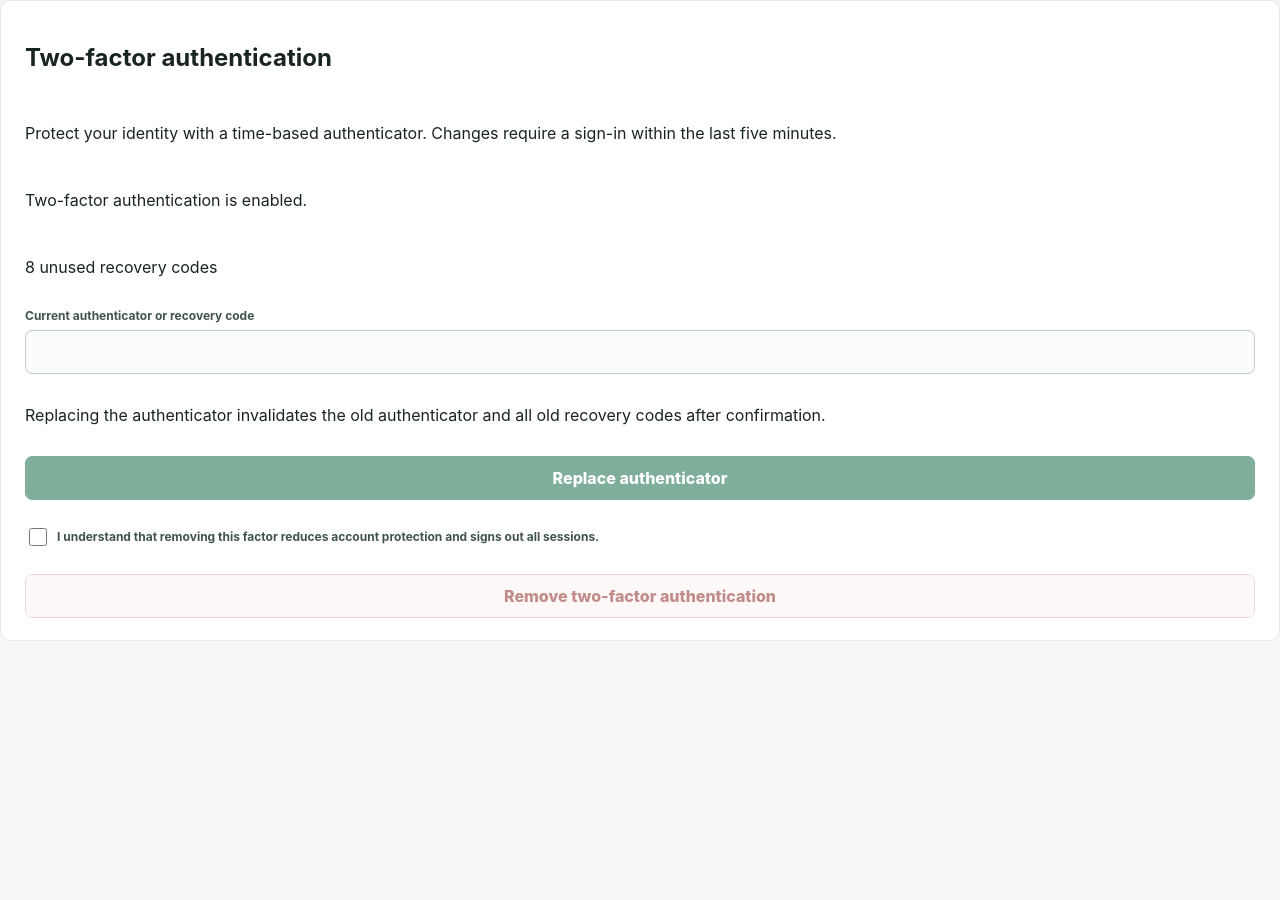
Test: identity MFA settings › requires current proof for replacement and clears it after use
The image size is (1280, 900).
Step 1. Submit the form, box [25,308,1255,618]
Step 2. Type "current-recovery-code" into the password field labelled "Current authenticator or recovery code" → (640, 352), box [25,330,1255,374]
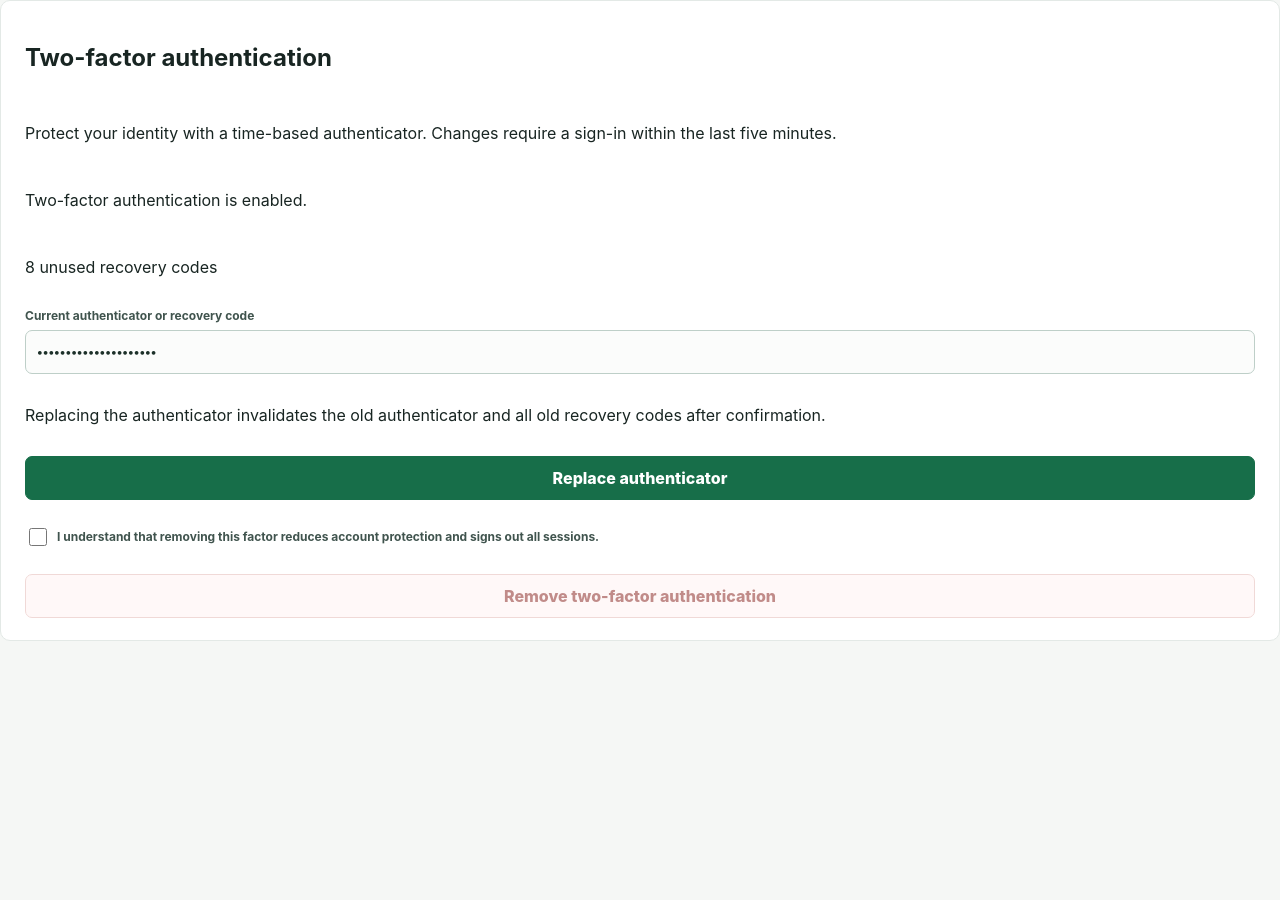
Step 3. Submit the form, box [25,308,1255,618]
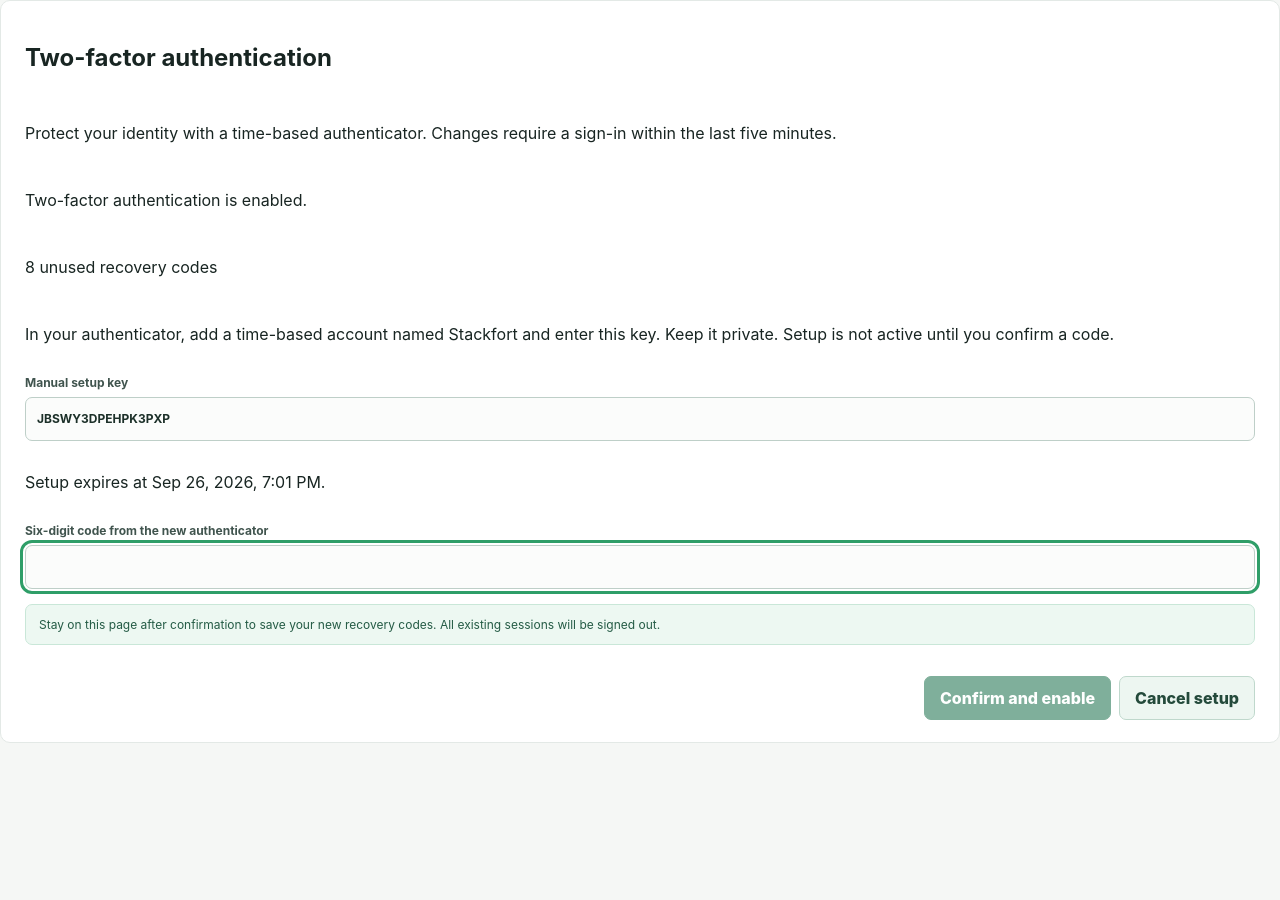
Step 4. Click the button with class "secondary-action" → click(1187, 698), box [1119,676,1255,720]
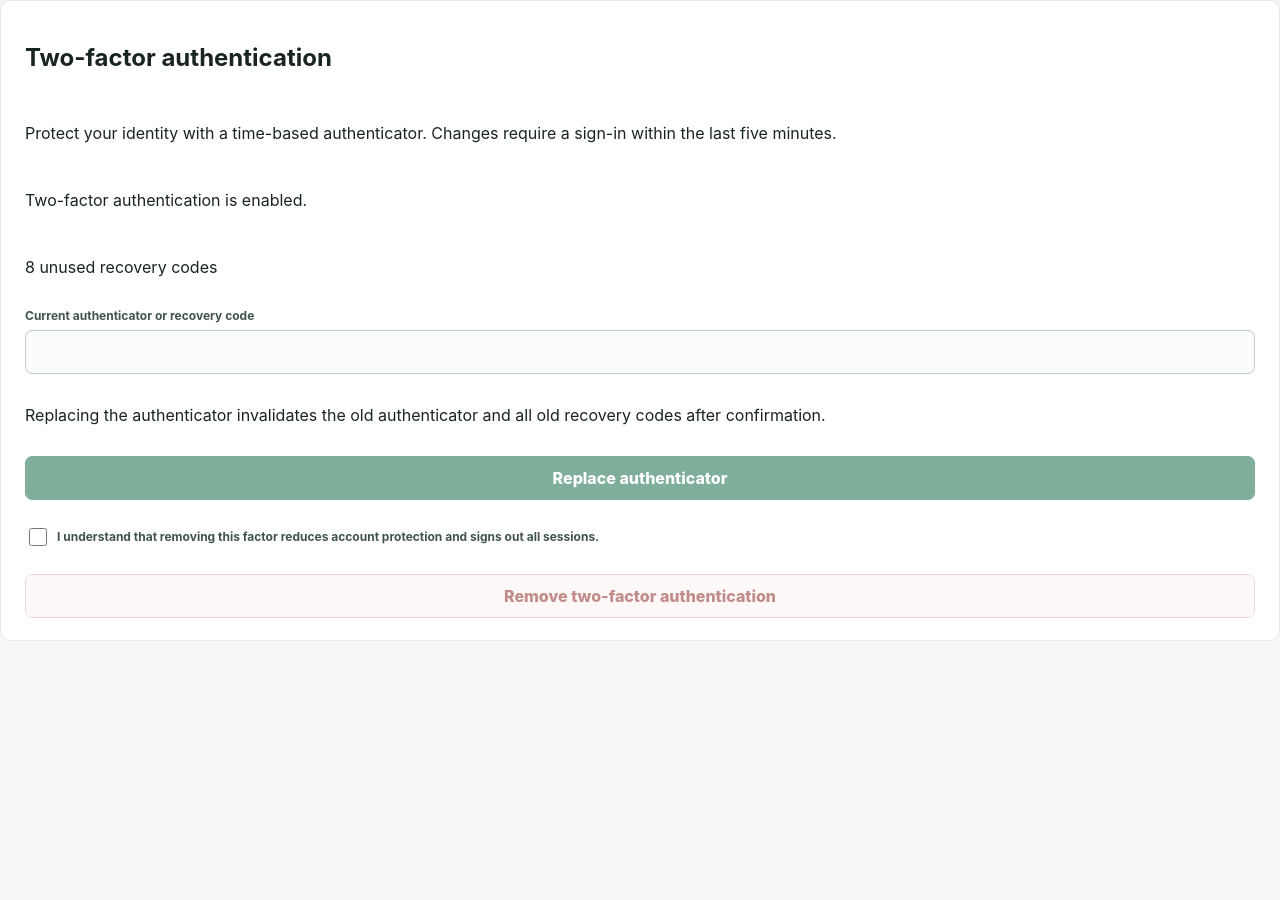
Now the password field labelled "Current authenticator or recovery code" is empty, box [25,330,1255,374]
